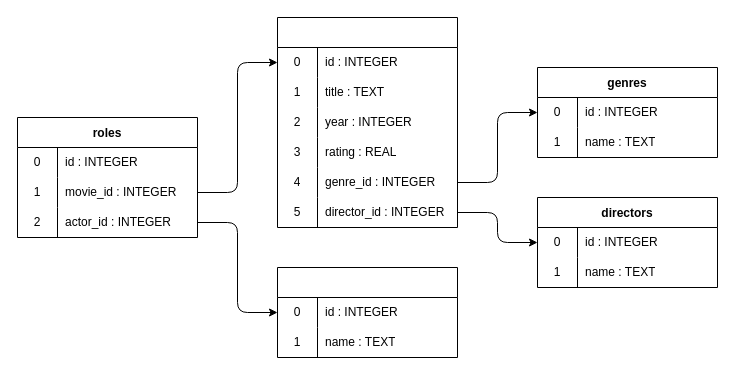
Image size: 735x375. Some labels were removed from this diagram. The shapes that lost their labels are listed below. From the top down, each one's box as (x1, y1, x2, y2) in pixels, then its label:
(276, 16, 458, 228): movies
(276, 266, 458, 358): actors
